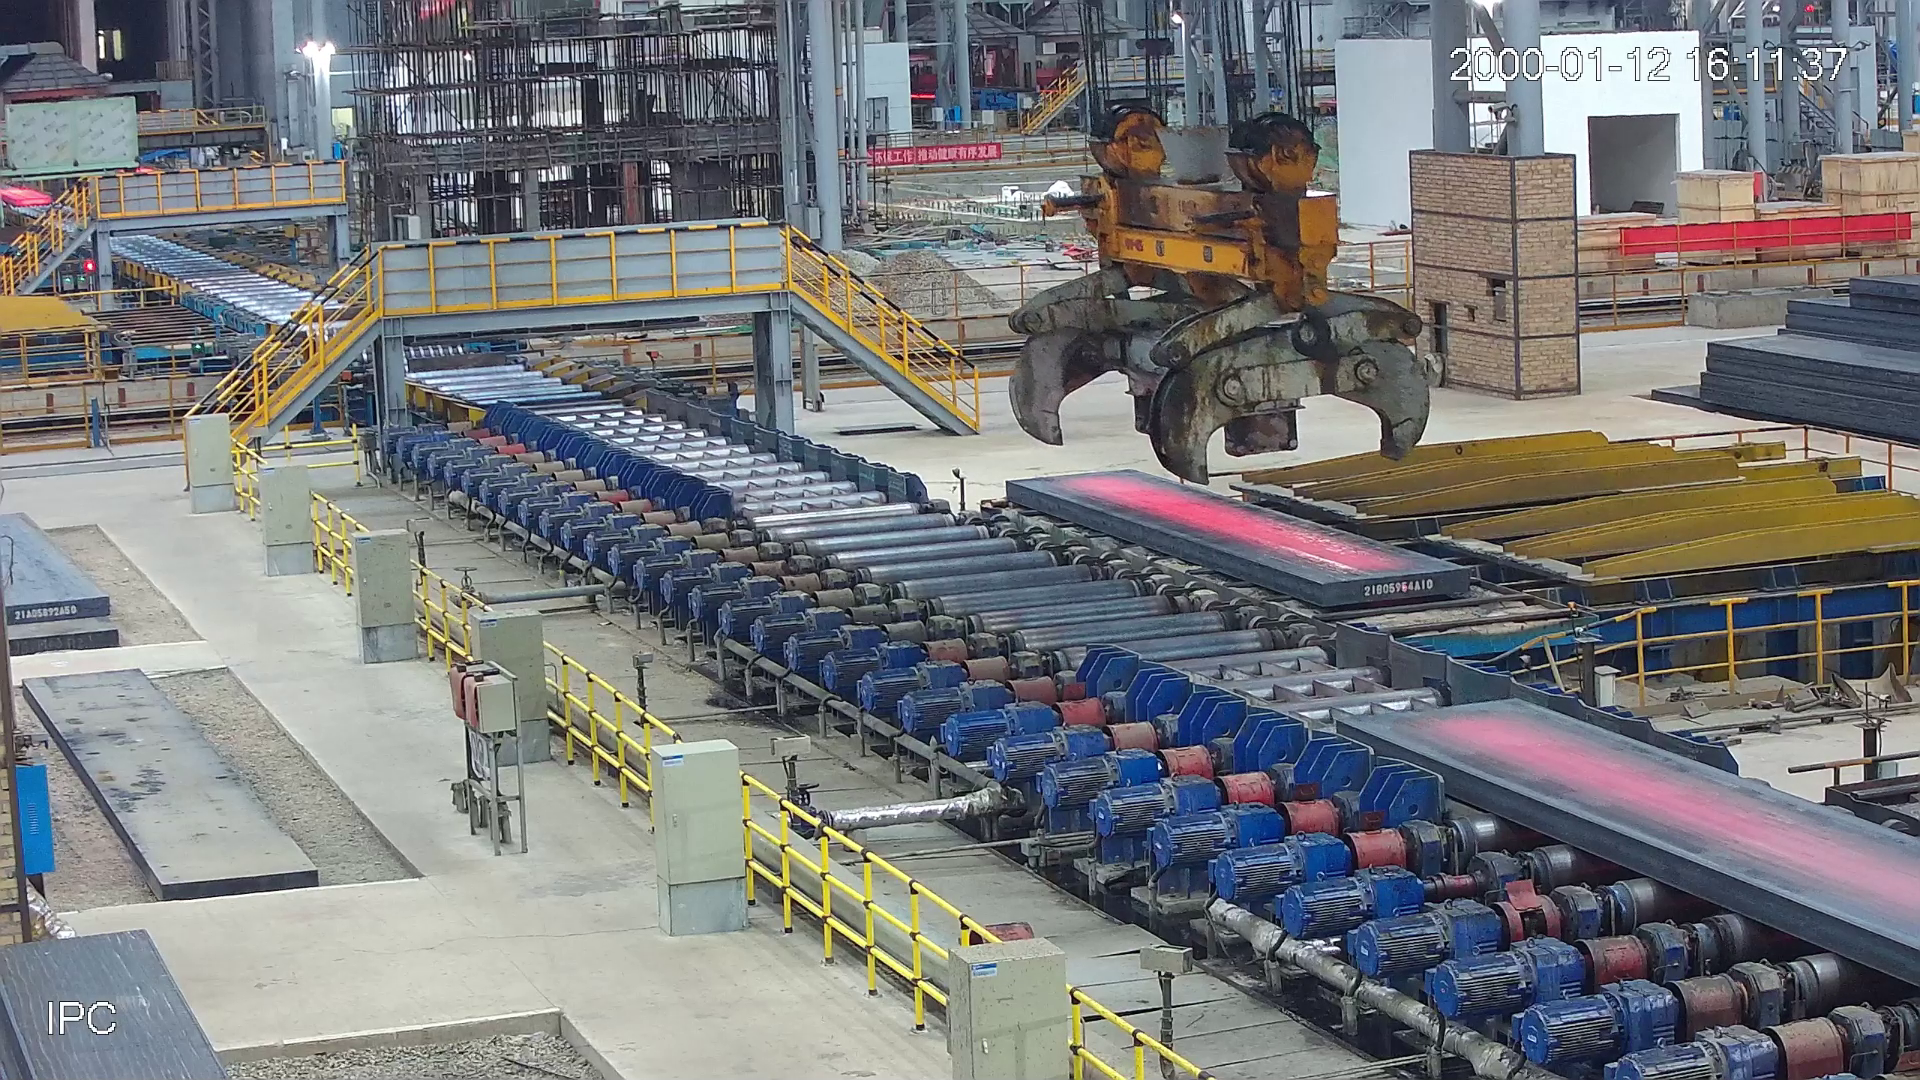crane: (1007, 105, 1431, 485)
slab: (1337, 694, 1920, 978), (1004, 473, 1470, 608)
